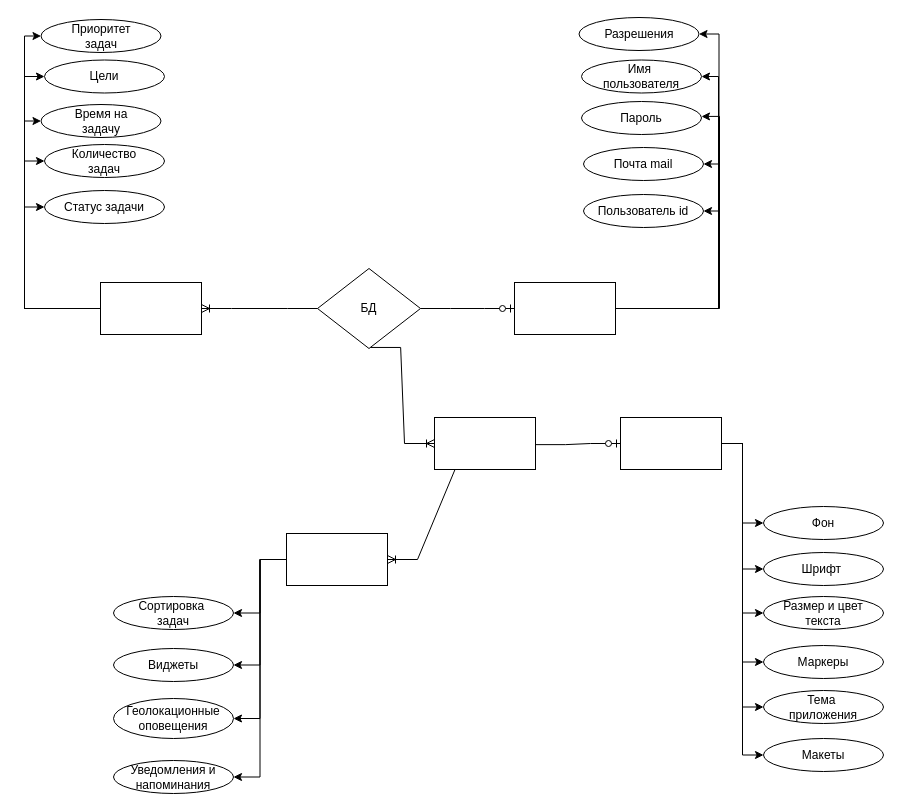
Some shapes in this 901 by 811 pixel diagram are drawn without their labels. Each missing label, with the centre of its shape:
"Задачи" goes at (x=151, y=308).
"Интерфейс" goes at (x=671, y=443).
"Пользователь" goes at (x=565, y=308).
"Программа" goes at (x=485, y=443).
"Функции" goes at (x=337, y=559).
